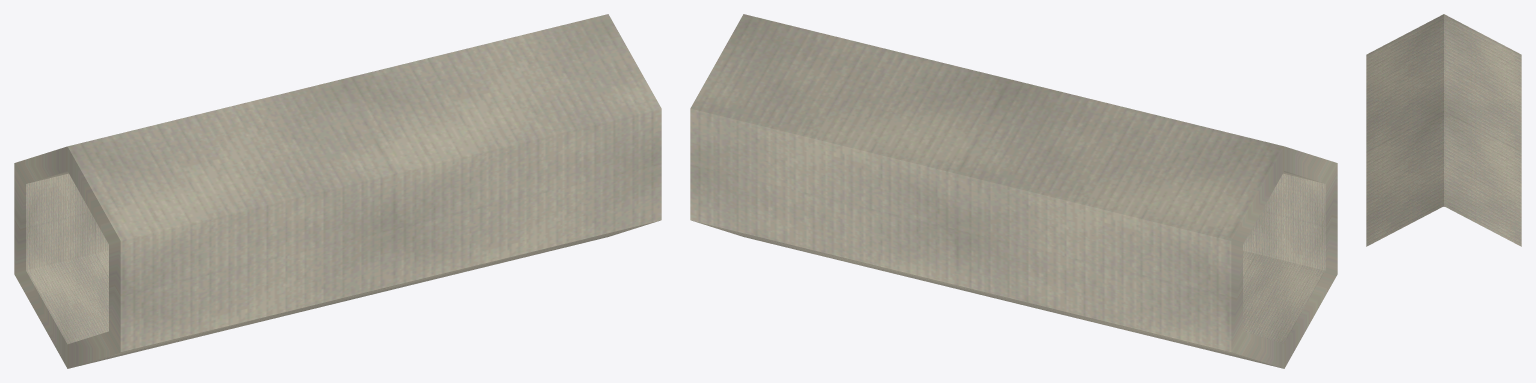
The picture shows the model from 3 angles, left to right: view 1: azimuth 30°, elevation 25°; view 2: azimuth 150°, elevation 25°; view 3: azimuth 270°, elevation 25°; orthographic projection. The views are drawn at different scales.
Parts seen in each view (by area): view 1: Tube03; view 2: Tube03; view 3: Tube03.
Part boxes in pixels (x1,y1,x2,y2): Tube03: (14, 14, 661, 368); Tube03: (690, 14, 1337, 368); Tube03: (1366, 14, 1521, 246).
Size of the model in its own units: 2110 by 831 by 718.
2 materials, 2 textured.
